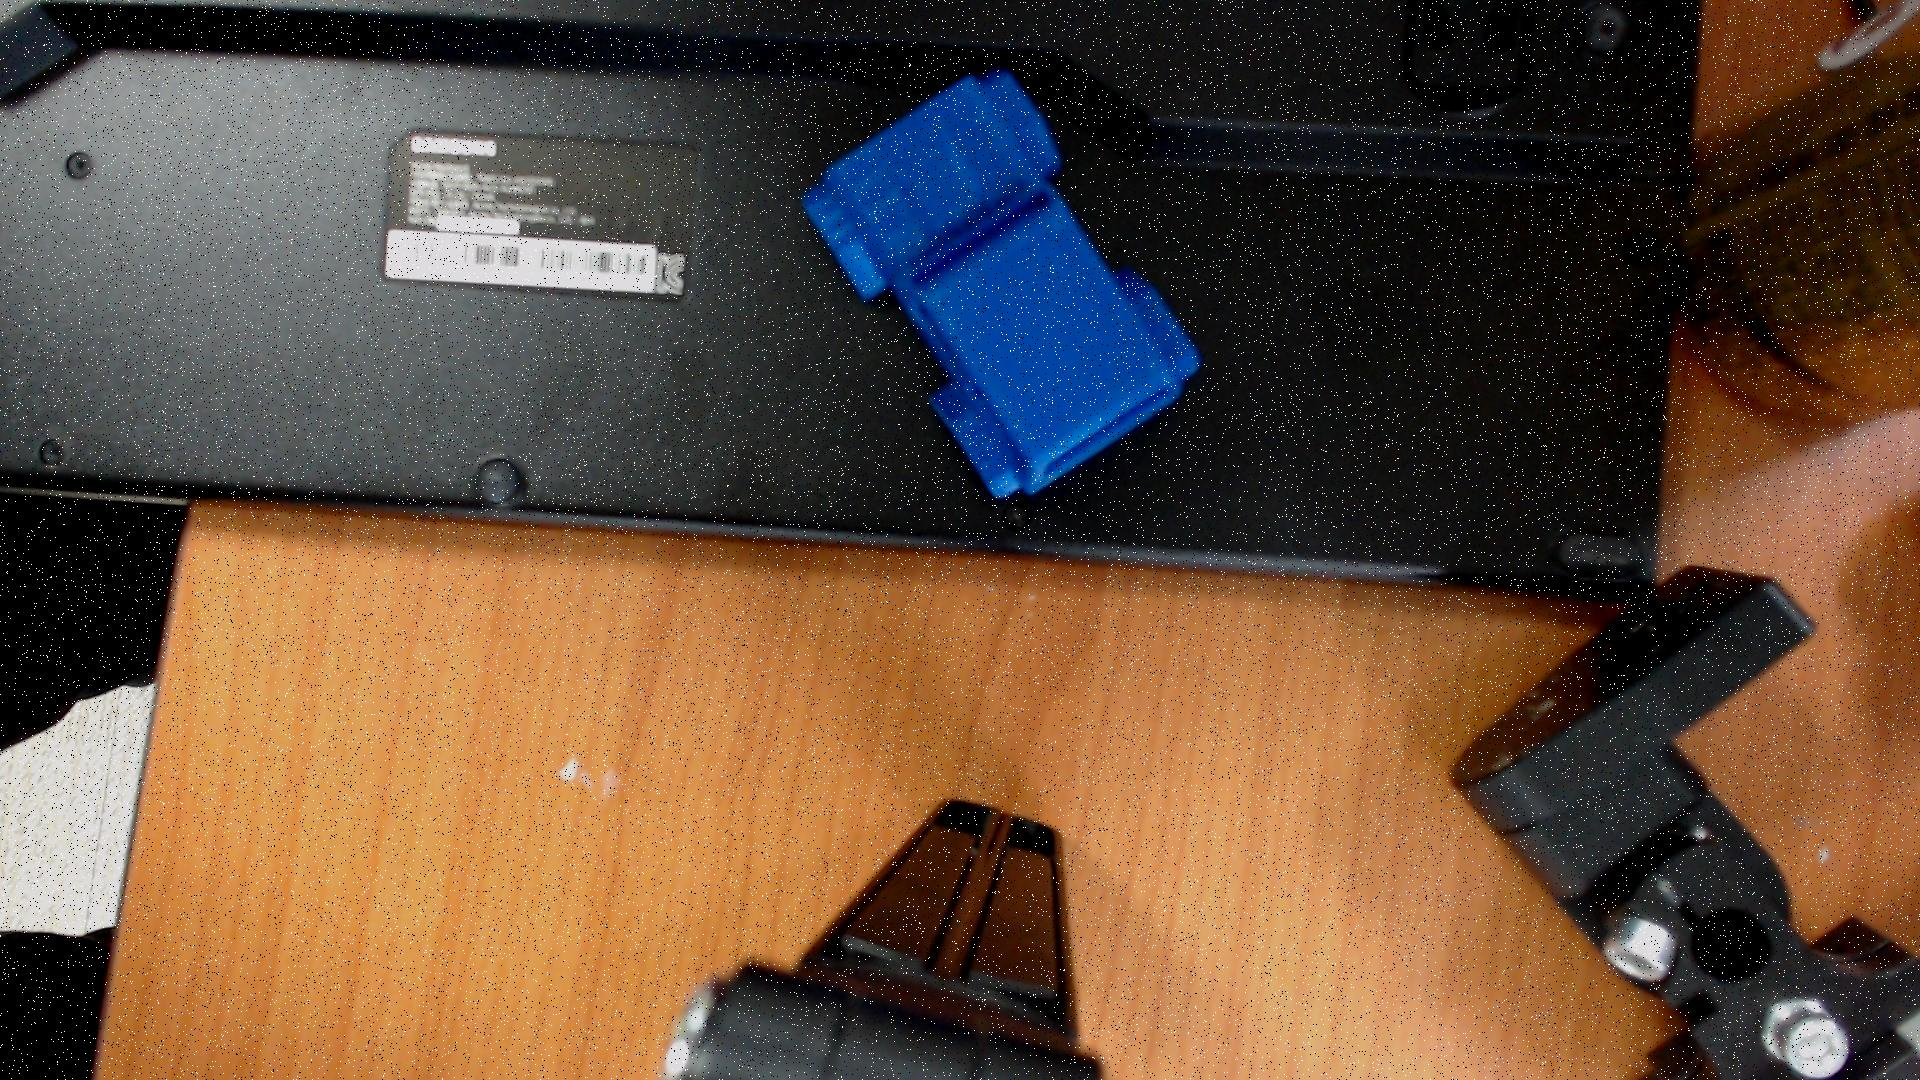Upper_ng: (803, 69, 1200, 498)
